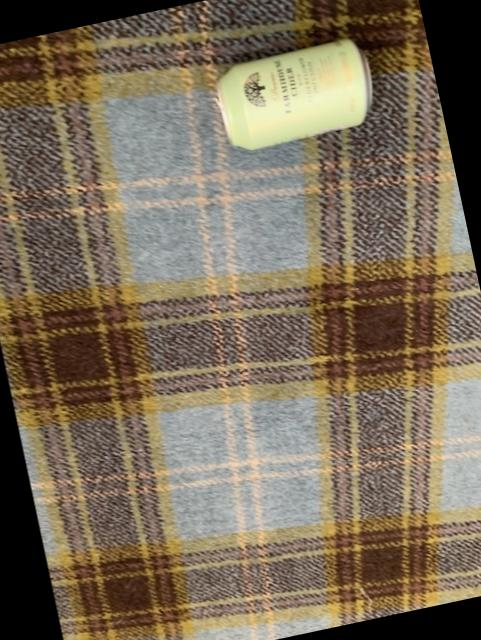metal: (218, 41, 373, 151)
